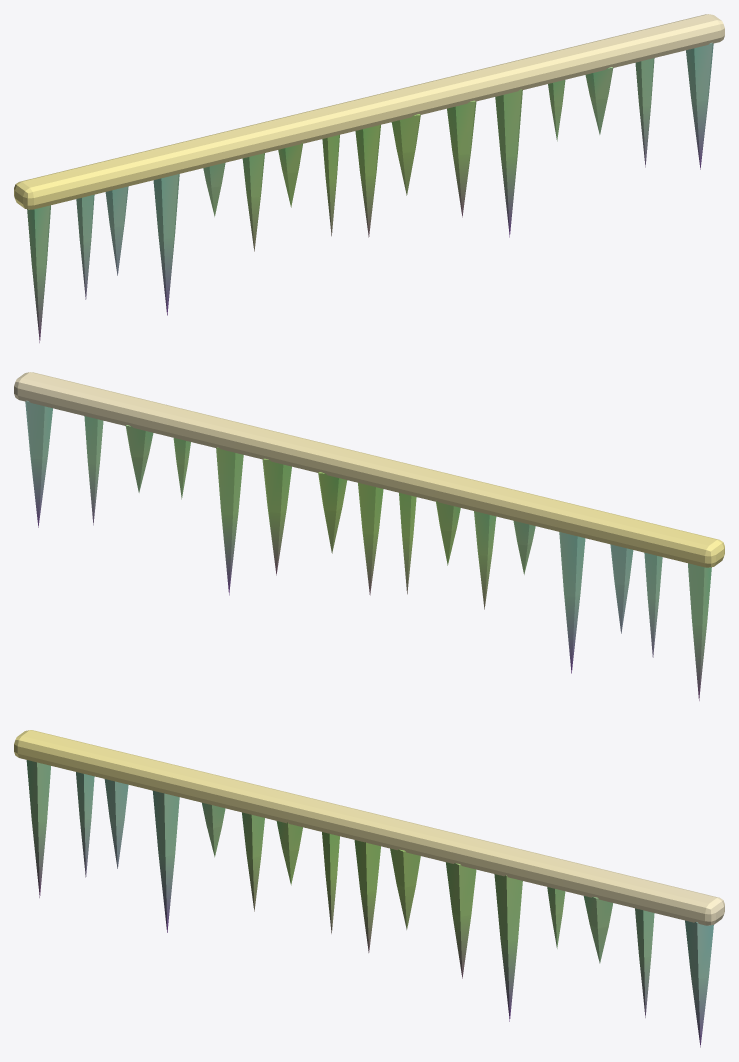
Rendered from Icicles_2m.fbx.
3 renders of one model, top to bottom at view 1: azimuth 30°, elevation 25°; view 2: azimuth 150°, elevation 25°; view 3: azimuth 330°, elevation 25°, orthographic.
Visible parts, largest first — view 1: Icicles_2m; view 2: Icicles_2m; view 3: Icicles_2m.
Part boxes in pixels (<box>): Icicles_2m: <box>14,14,724,342</box>; Icicles_2m: <box>14,372,724,700</box>; Icicles_2m: <box>14,730,724,1047</box>.
Bounding box in the file's own units: 2 × 0.466 × 0.0827.
